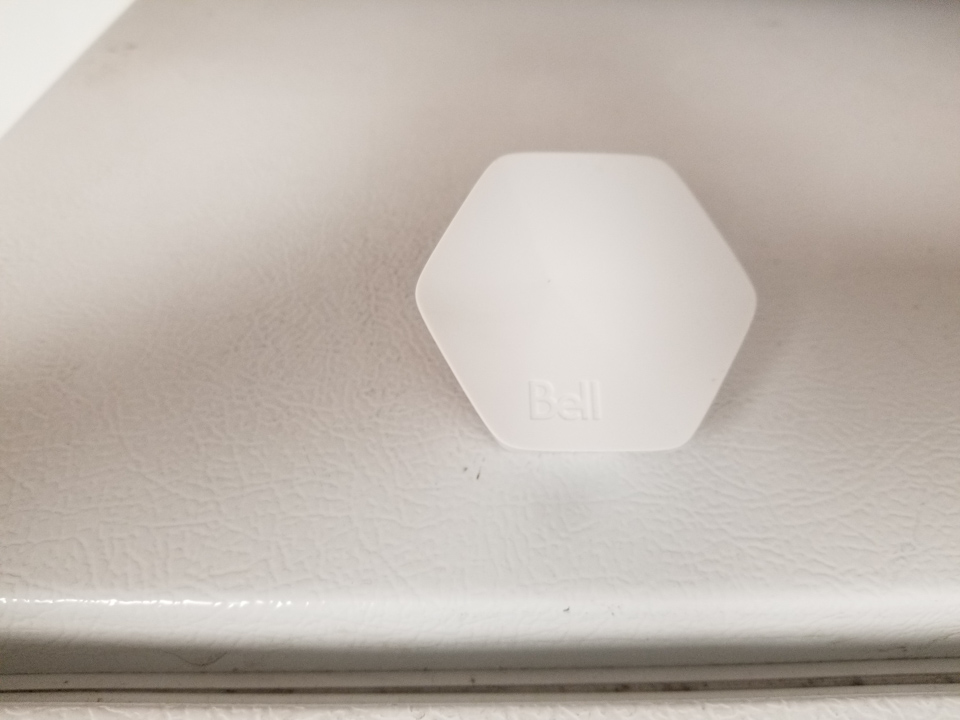pod: (411, 144, 766, 461)
